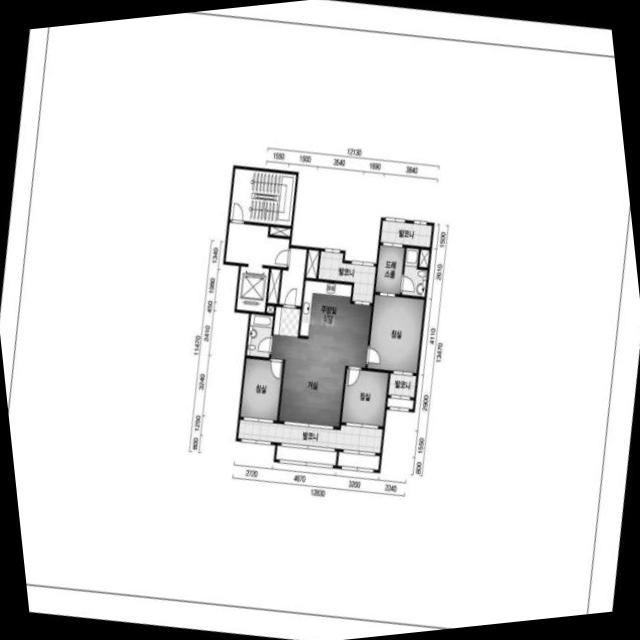background: (0, 0, 640, 640)
space_balconi: (237, 419, 382, 469), (317, 251, 375, 302), (379, 220, 431, 246), (386, 373, 415, 408)
space_bedroom: (367, 294, 423, 372), (239, 358, 282, 420), (341, 368, 387, 425)
space_dressroom: (374, 245, 403, 293)
space_elevator: (236, 266, 268, 311)
space_elevator_hall: (224, 222, 288, 267)
space_front: (272, 306, 299, 337)
space_kitchen: (299, 280, 351, 340)
space_living_room: (270, 303, 371, 426)
space_other: (278, 247, 306, 305), (266, 268, 280, 312), (305, 249, 318, 278), (418, 249, 428, 267)
space_staircase: (229, 168, 295, 225), (269, 226, 290, 236)
space_toilet: (401, 247, 427, 296), (246, 313, 272, 357)
